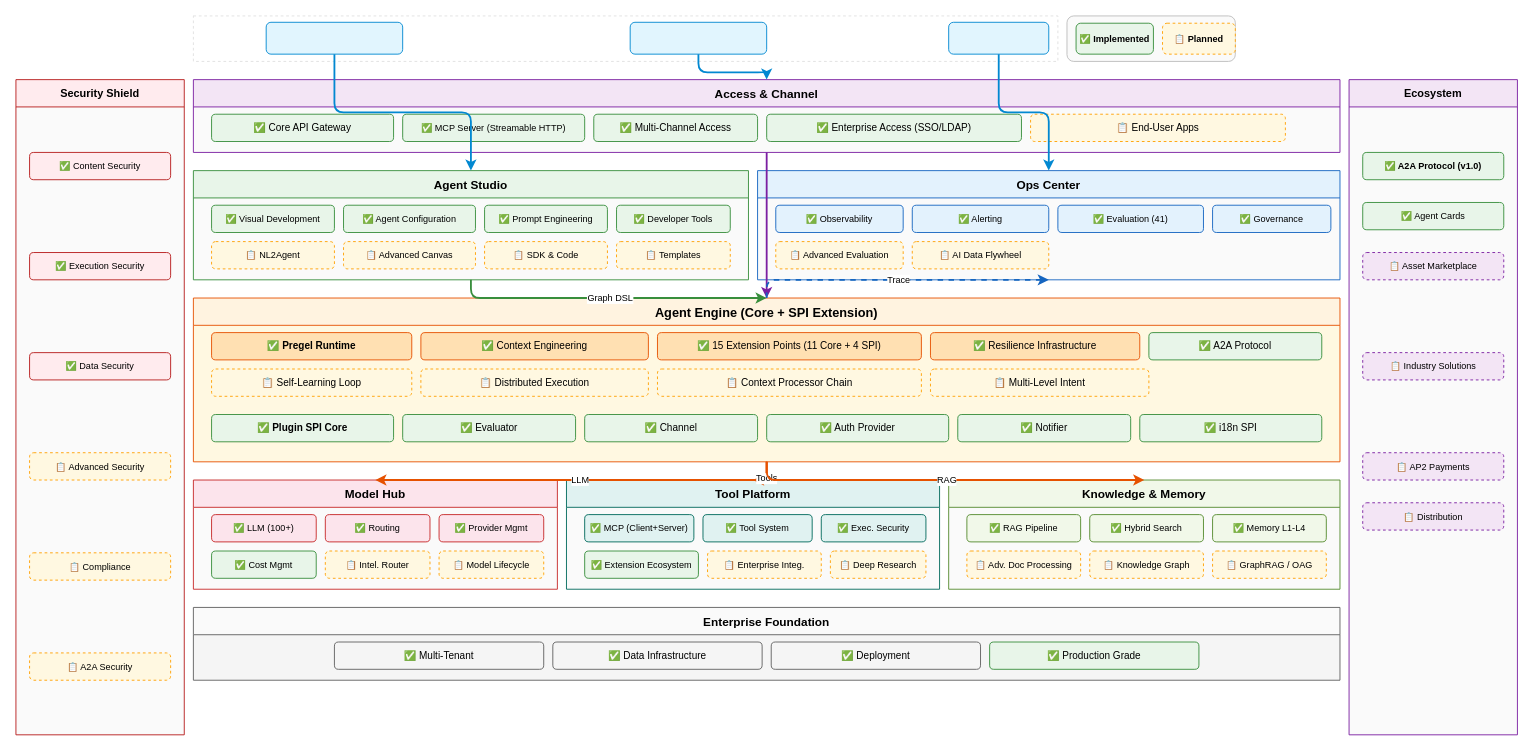
Some shapes in this 1533 by 751 pixel diagram are drawn without their labels. Each missing label, with the centre of its shape:
"💬 End User" belongs at point 698,37.
"📊 Ops Admin" belongs at point 998,37.
"🔧 Developer" belongs at point 334,37.
